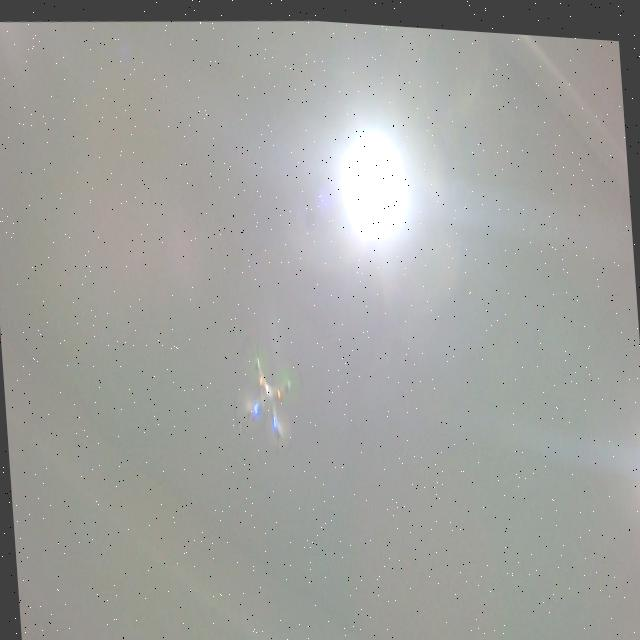drone: (222, 320, 312, 458)
